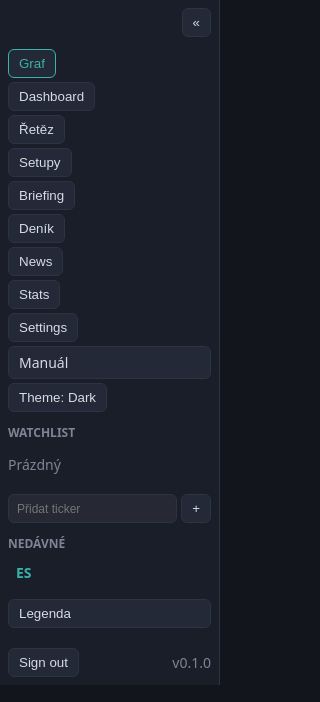
409 při přidání = symbol na serveru existuje → seznam se srovná se serverem (#407)
Check: the button "ES" is shown, box left=10, top=560, right=209, bottom=585
Type "NQ" into the field named "Nový symbol" at (93, 508), box left=8, top=494, right=177, bottom=523
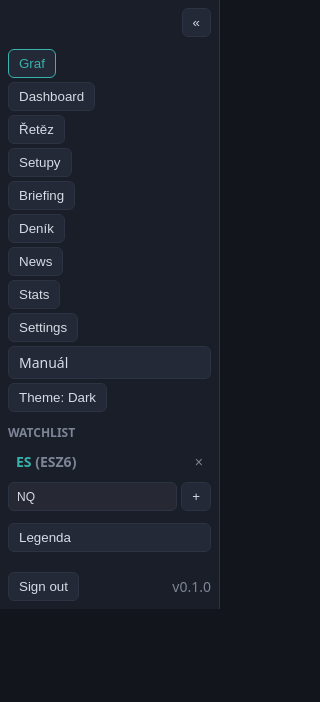
Submit the form, box left=8, top=482, right=211, bottom=511
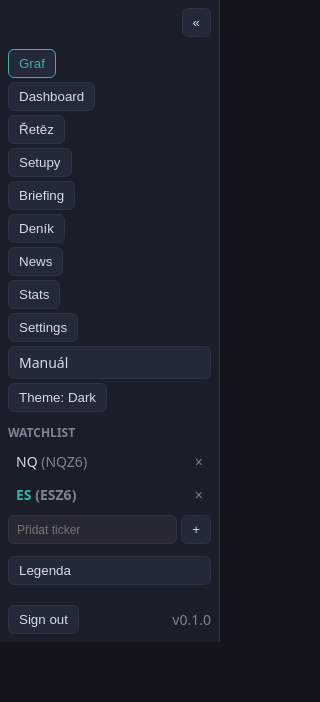
Check: the button "NQ (NQZ6)" is shown, box left=10, top=449, right=189, bottom=474
